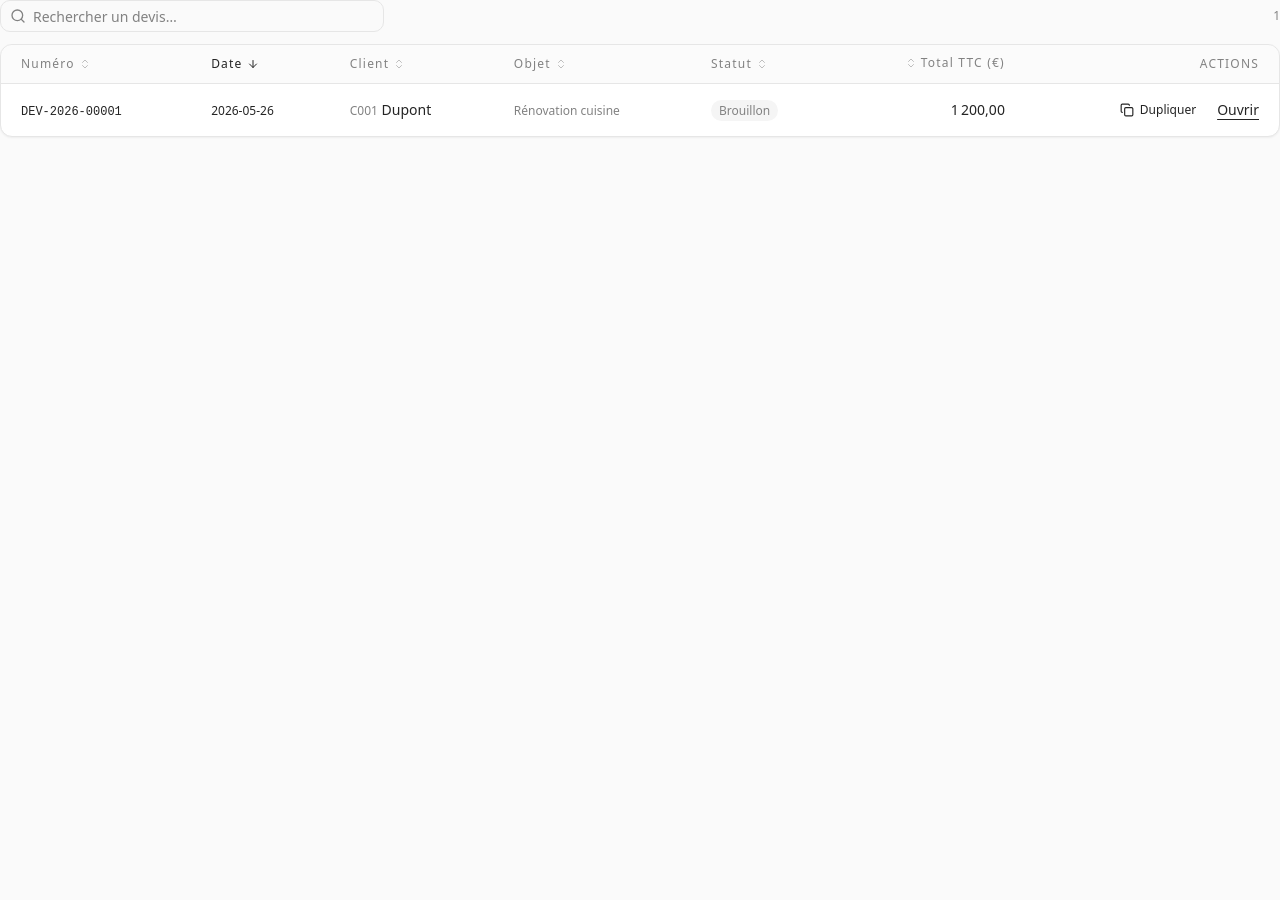
Scenario: DevisTable — bouton Dupliquer › clic ouvre le dialog DupliquerDevisDialog
What coordinates should you click on to do the following:
click the button with aria-label "Dupliquer DEV-2026-00001"
I would click on:
 (1158, 110)
Its box is [1111,96,1205,124].
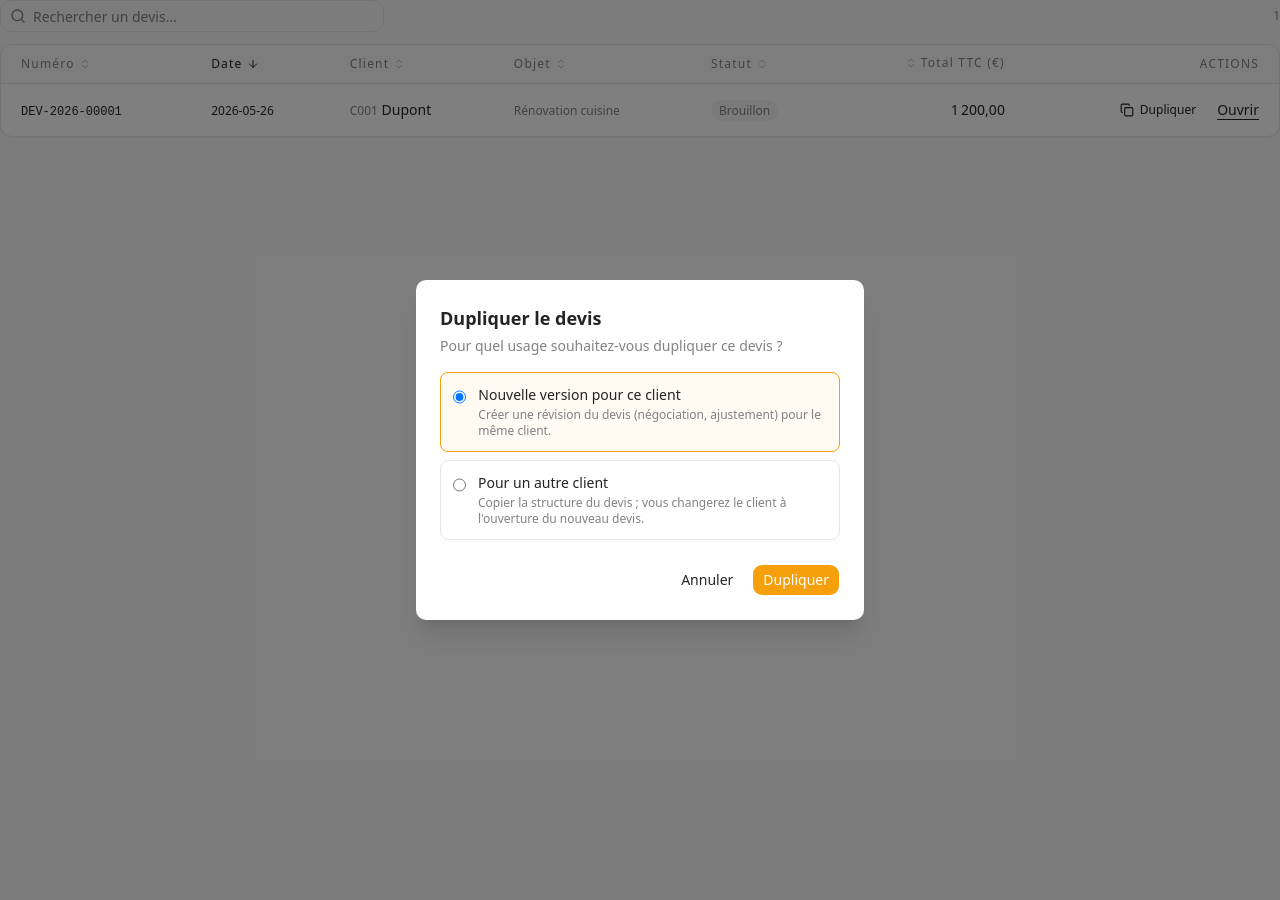
Expected: the dialog is shown
Expected: the heading "Dupliquer le devis" is shown, [440,306,601,330]
